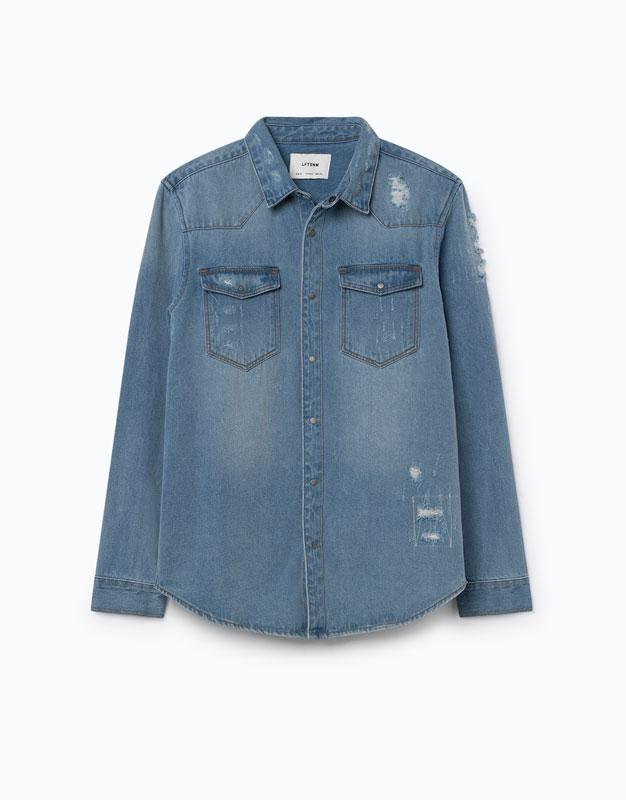teeshirt: (92, 114, 550, 648)
